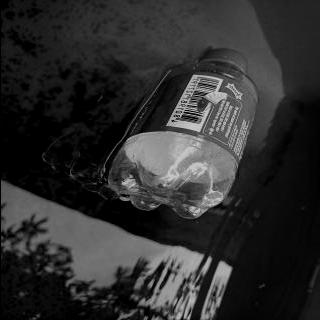bottle: (106, 48, 260, 220)
